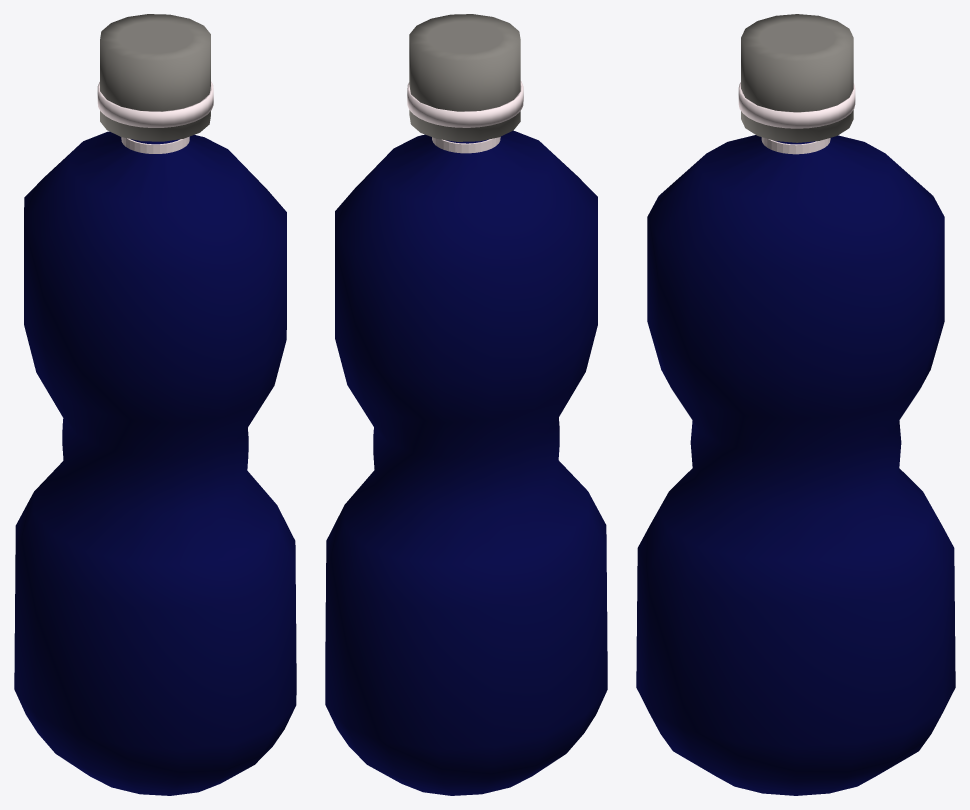
The model's file is bottle .fbx.
3 views of the same model, side by side, from view 1: azimuth 30°, elevation 25°; view 2: azimuth 150°, elevation 25°; view 3: azimuth 270°, elevation 25° (orthographic).
Parts seen in each view (by area): view 1: Circle.002; view 2: Circle.002; view 3: Circle.002.
Boxes of the visible parts, x1,y1,x2,y2 form: Circle.002: (14, 14, 296, 795); Circle.002: (325, 14, 607, 795); Circle.002: (636, 14, 955, 795).
Bounding box in the file's own units: 72.35 × 208 × 82.99.
